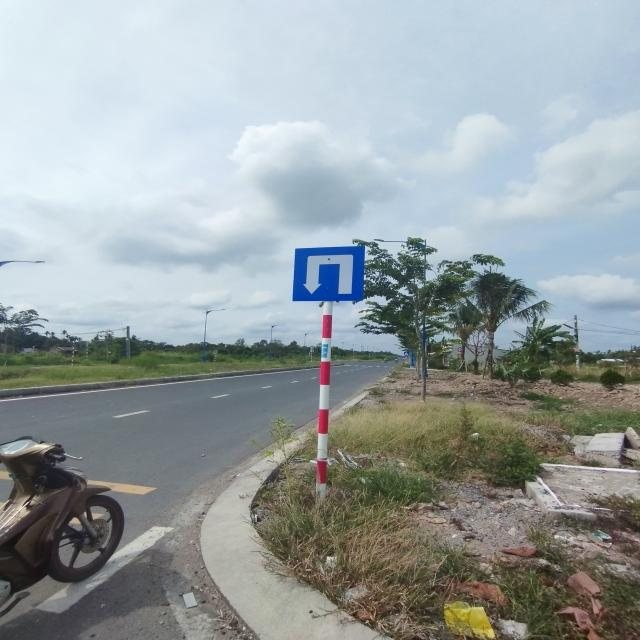Den_Giao_Thong: (293, 246, 364, 300)
